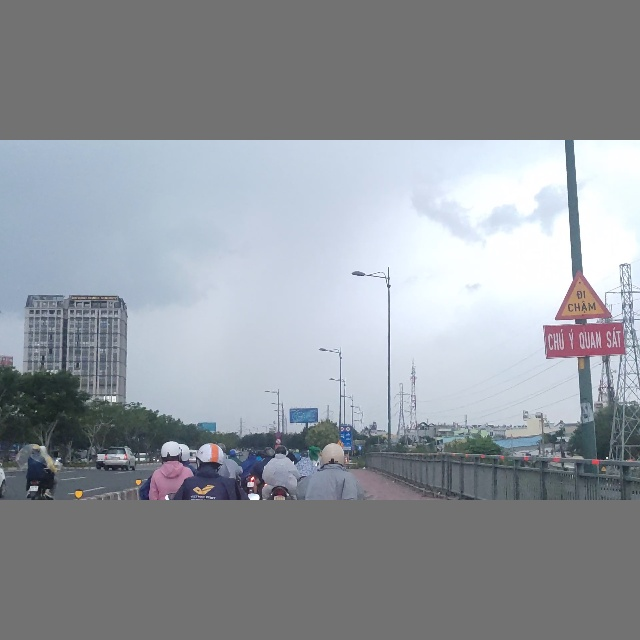W.245a: (553, 269, 613, 322)
